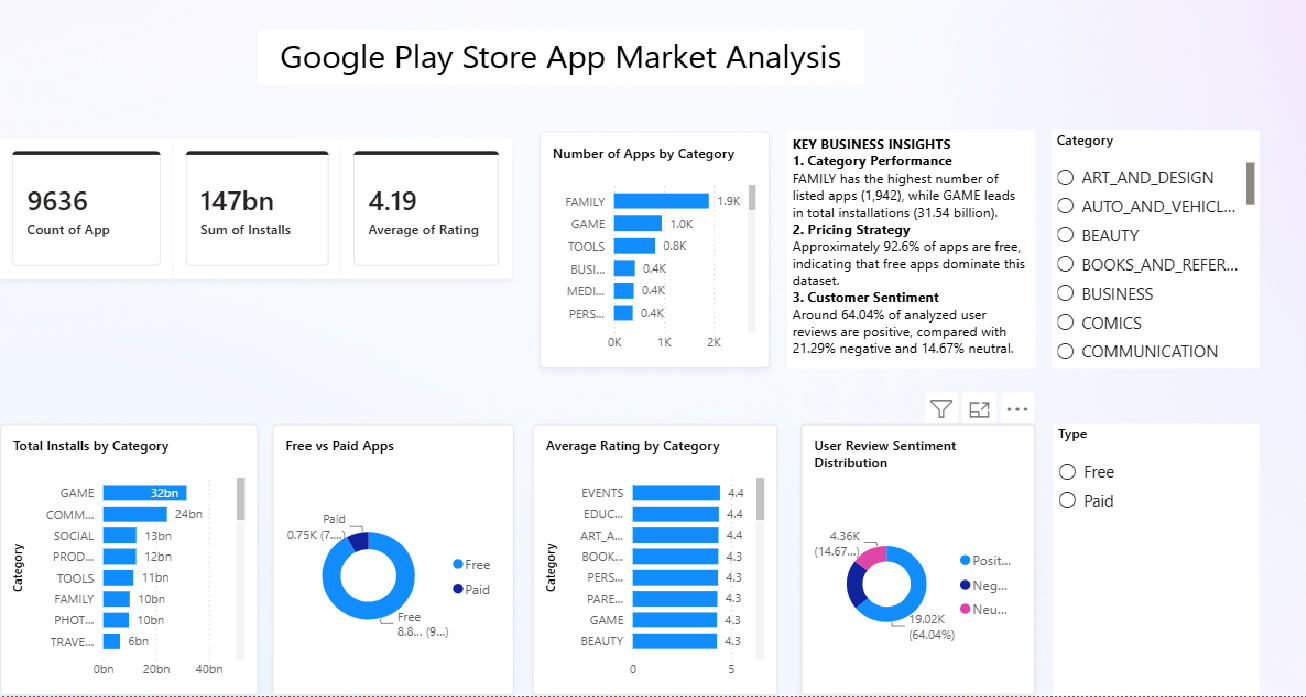

What the dashboard file says about the page in this screenshot:
{"tool":"powerbi","page":{"name":"Page 1","canvas":[1280,720],"ordinal":0},"visuals":[{"type":"cardVisual","fields":{"Data":["Count(cleaned_googleplaystore.App)"]},"box":[0,145.2,169.4,143.9],"z":0},{"type":"cardVisual","fields":{"Data":["Sum(cleaned_googleplaystore.Installs)"]},"box":[169.4,145.2,164.1,143.9],"z":1000},{"type":"cardVisual","fields":{"Data":["Avg(cleaned_googleplaystore.Rating)"]},"box":[333.5,145.2,166.8,143.9],"z":2000},{"type":"clusteredBarChart","title":"Number of Apps by Category","fields":{"Y":["Count(cleaned_googleplaystore.App)"],"Category":["cleaned_googleplaystore.Category"]},"box":[527.2,137.2,224.6,244.8],"z":3000},{"type":"clusteredBarChart","title":"Total Installs by Category","fields":{"Category":["cleaned_googleplaystore.Category"],"Y":["Sum(cleaned_googleplaystore.Installs)"]},"box":[0,440,252,280],"z":4000},{"type":"donutChart","title":"Free vs Paid Apps","fields":{"Category":["cleaned_googleplaystore.Type"],"Y":["Count(cleaned_googleplaystore.App)"]},"box":[265.7,440,236,280],"z":5000},{"type":"clusteredBarChart","title":"Average Rating by Category","fields":{"Category":["cleaned_googleplaystore.Category"],"Y":["Avg(cleaned_googleplaystore.Rating)"]},"box":[520.4,439.8,239.4,279.7],"z":6000},{"type":"donutChart","title":"User Review Sentiment Distribution","fields":{"Category":["cleaned_googleplaystore_reviews.Sentiment"],"Y":["CountNonNull(cleaned_googleplaystore_reviews.App)"]},"box":[782.7,439.8,228.6,279.7],"z":7000},{"type":"listSlicer","fields":{"Values":["cleaned_googleplaystore.Category"]},"box":[1027.4,135.8,203.1,246.1],"z":8000},{"type":"listSlicer","fields":{"Values":["cleaned_googleplaystore.Type"]},"box":[1028.8,439.8,201.7,279.7],"z":9000},{"type":"textbox","box":[251.4,32.9,592.9,57.1],"z":10000},{"type":"textbox","box":[769.2,135.8,242.1,246.1],"z":11000}]}

Visuals, with their boxes on the page's 1280x720 design canvas (x1, y1, x2, y2). These are canvas units, not pixel positions in the 1306x697 screenshot, which may show the page scaled, cropped or inside an application window:
cardVisual - Count(cleaned_googleplaystore.App): [0,145,169,289]
cardVisual - Sum(cleaned_googleplaystore.Installs): [169,145,334,289]
cardVisual - Avg(cleaned_googleplaystore.Rating): [334,145,500,289]
"Number of Apps by Category" clusteredBarChart: [527,137,752,382]
"Total Installs by Category" clusteredBarChart: [0,440,252,720]
"Free vs Paid Apps" donutChart: [266,440,502,720]
"Average Rating by Category" clusteredBarChart: [520,440,760,720]
"User Review Sentiment Distribution" donutChart: [783,440,1011,720]
listSlicer - cleaned_googleplaystore.Category: [1027,136,1230,382]
listSlicer - cleaned_googleplaystore.Type: [1029,440,1230,720]
textbox: [251,33,844,90]
textbox: [769,136,1011,382]
